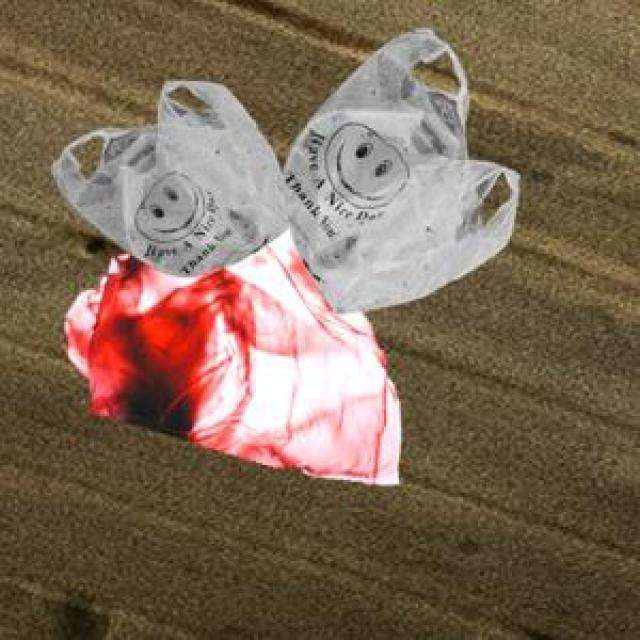plasticcover: (49, 258, 426, 503), (282, 26, 521, 306), (57, 95, 296, 292)
